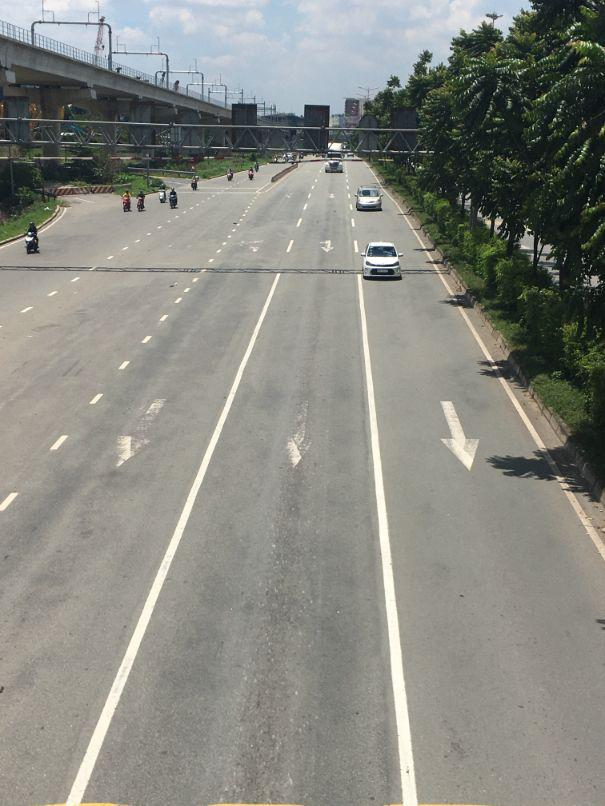car: (363, 240, 402, 280), (355, 186, 382, 212), (325, 158, 343, 174)
